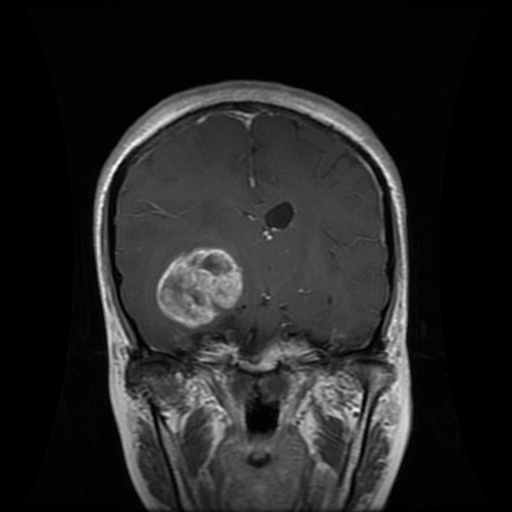glioma: (154, 244, 249, 329)
